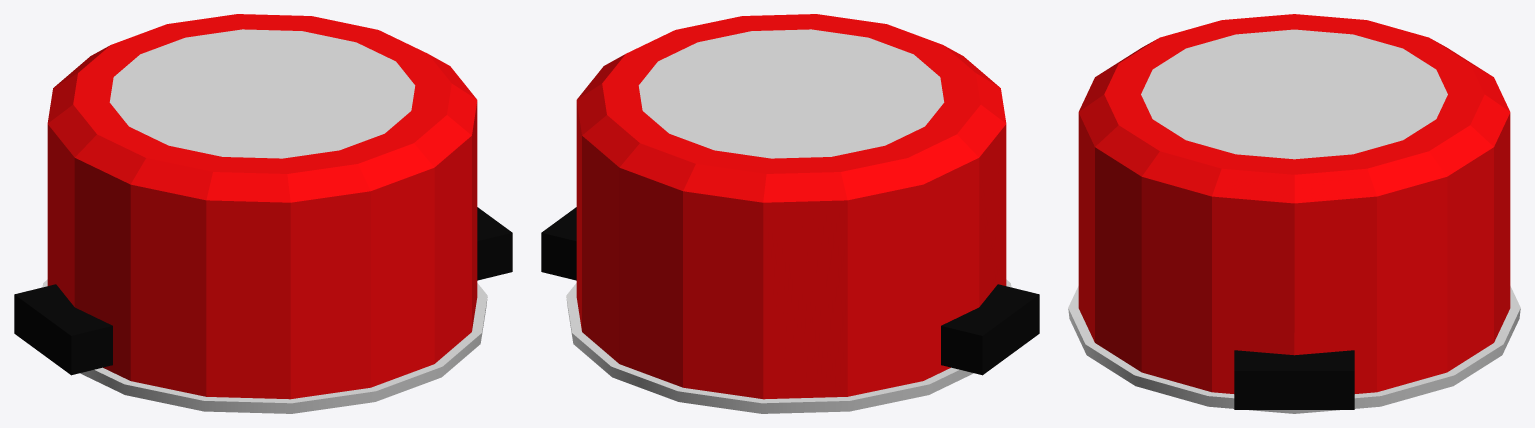
File: Pan.fbx
3 views of the same model, side by side, from view 1: azimuth 30°, elevation 25°; view 2: azimuth 150°, elevation 25°; view 3: azimuth 270°, elevation 25° (orthographic).
Visible parts, largest first — view 1: Cylinder.001; view 2: Cylinder.001; view 3: Cylinder.001.
Boxes of the visible parts, box(x1,y1,x2,y2) form: Cylinder.001: box(14, 14, 512, 413); Cylinder.001: box(541, 14, 1039, 413); Cylinder.001: box(1068, 14, 1520, 413).
Bounding box in the file's own units: 234 × 115 × 210.
